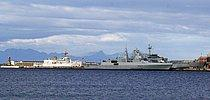MIL_Ship: (83, 45, 173, 71)
